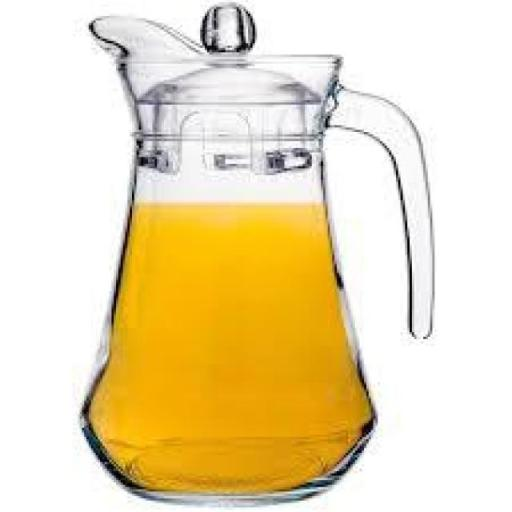glass: (62, 1, 448, 512)
